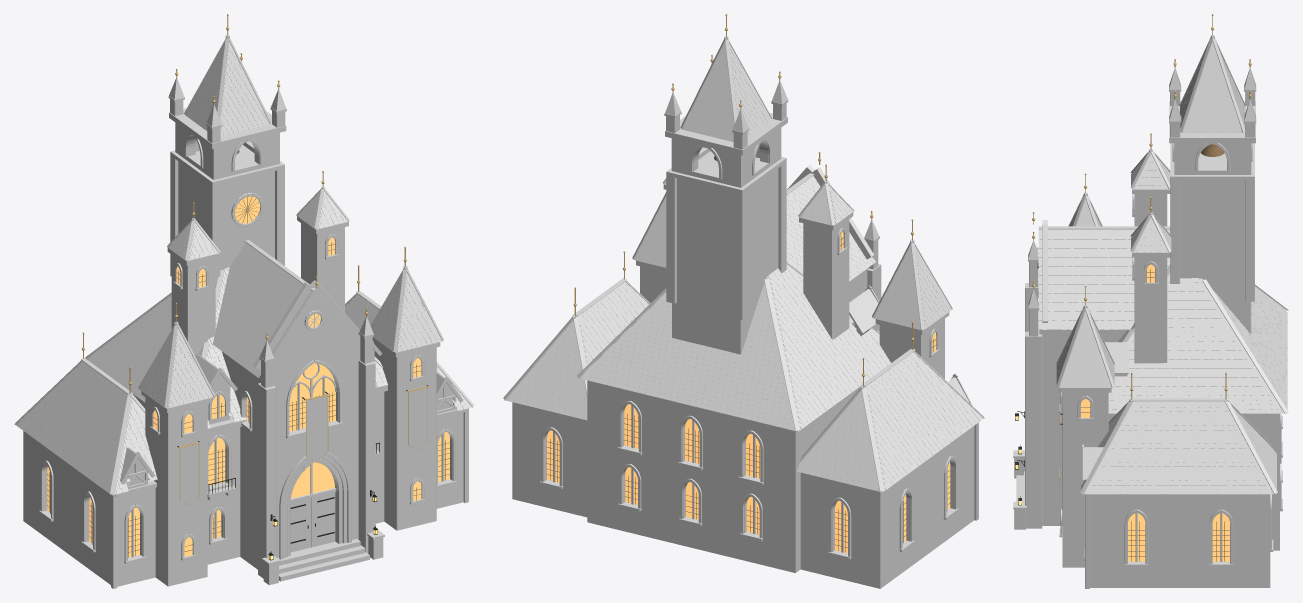
File: SilverbrookTownHall.glb
The picture shows the model from 3 angles, left to right: view 1: azimuth 30°, elevation 25°; view 2: azimuth 150°, elevation 25°; view 3: azimuth 270°, elevation 25°; orthographic projection. The views are drawn at different scales.
Parts seen in each view (by area): view 1: SM_SBTownHall_Masonry, SM_SBTownHall_Roof, SM_SBTownHall_Details, SM_SBTownHall_Timber, SM_SBTownHall_Door2, SM_SBTownHall_Door1; view 2: SM_SBTownHall_Masonry, SM_SBTownHall_Roof, SM_SBTownHall_Details, SM_SBTownHall_Timber; view 3: SM_SBTownHall_Roof, SM_SBTownHall_Masonry, SM_SBTownHall_Details, SM_SBTownHall_Timber.
Boxes of the visible parts, x1=… form: SM_SBTownHall_Masonry: x1=23, y1=96, x2=463, y2=586; SM_SBTownHall_Roof: x1=14, y1=35, x2=474, y2=495; SM_SBTownHall_Details: x1=47, y1=14, x2=449, y2=560; SM_SBTownHall_Timber: x1=111, y1=342, x2=468, y2=588; SM_SBTownHall_Door2: x1=311, y1=492, x2=335, y2=547; SM_SBTownHall_Door1: x1=290, y1=498, x2=311, y2=552; SM_SBTownHall_Masonry: x1=512, y1=99, x2=974, y2=588; SM_SBTownHall_Roof: x1=503, y1=36, x2=984, y2=492; SM_SBTownHall_Details: x1=547, y1=14, x2=950, y2=553; SM_SBTownHall_Timber: x1=864, y1=285, x2=978, y2=520; SM_SBTownHall_Roof: x1=1028, y1=35, x2=1288, y2=494; SM_SBTownHall_Masonry: x1=1013, y1=84, x2=1282, y2=587; SM_SBTownHall_Details: x1=1015, y1=14, x2=1251, y2=561; SM_SBTownHall_Timber: x1=1082, y1=144, x2=1213, y2=588.
Size of the model in its own units: 22 by 27.95 by 14.31.
